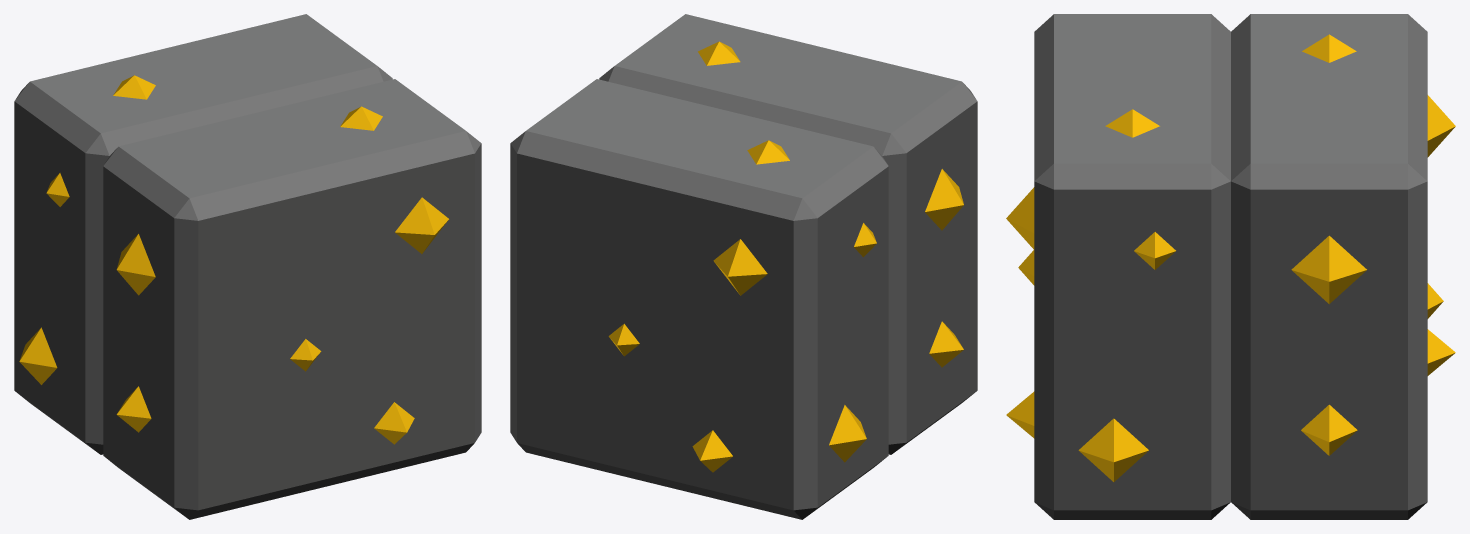
Rendered from m_kub_ore_halfBigDouble.FBX.
3 views of the same model, side by side, from view 1: azimuth 30°, elevation 25°; view 2: azimuth 150°, elevation 25°; view 3: azimuth 270°, elevation 25° (orthographic). The views are drawn at different scales.
Visible parts, largest first — view 1: m_kub_ore_halfBigDouble; view 2: m_kub_ore_halfBigDouble; view 3: m_kub_ore_halfBigDouble.
Part boxes in pixels (<box>): m_kub_ore_halfBigDouble: <box>14,14,481,519</box>; m_kub_ore_halfBigDouble: <box>510,14,977,519</box>; m_kub_ore_halfBigDouble: <box>1006,14,1455,519</box>.
Size of the model in its own units: 2.29 by 2.1 by 2.29.
